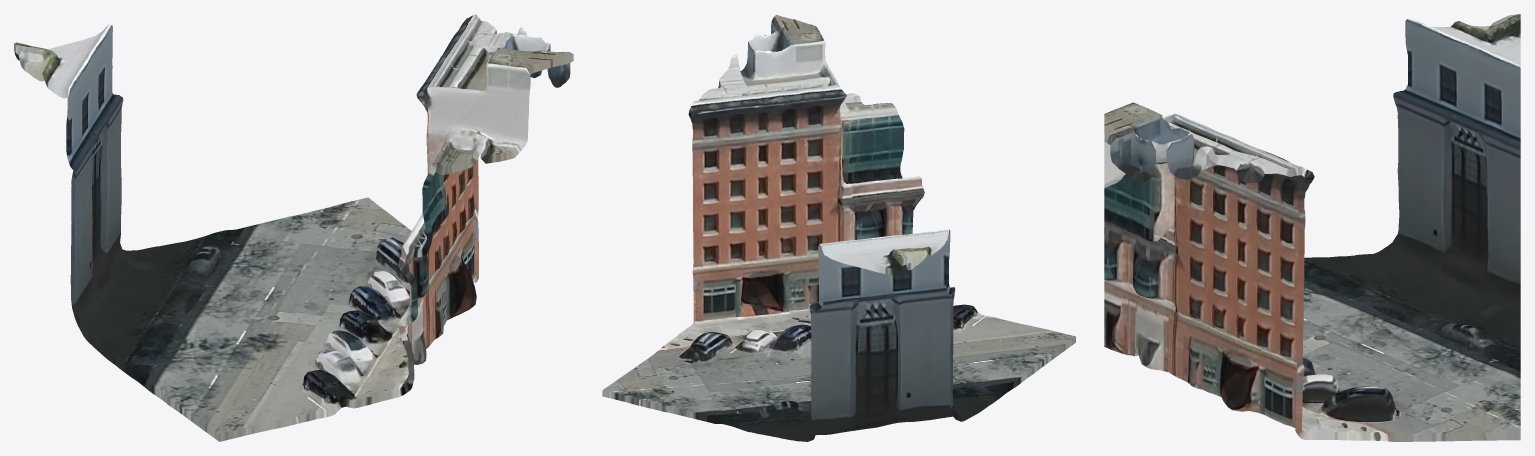
The model's file is z20-167793-405230-h0-yup-uvflip-v3-world.glb.
The picture shows the model from 3 angles, left to right: view 1: azimuth 30°, elevation 25°; view 2: azimuth 150°, elevation 25°; view 3: azimuth 270°, elevation 25°; orthographic projection. The views are drawn at different scales.
Bounding box in the file's own units: 30.2 × 24.72 × 30.32.
1 material, 1 textured.
